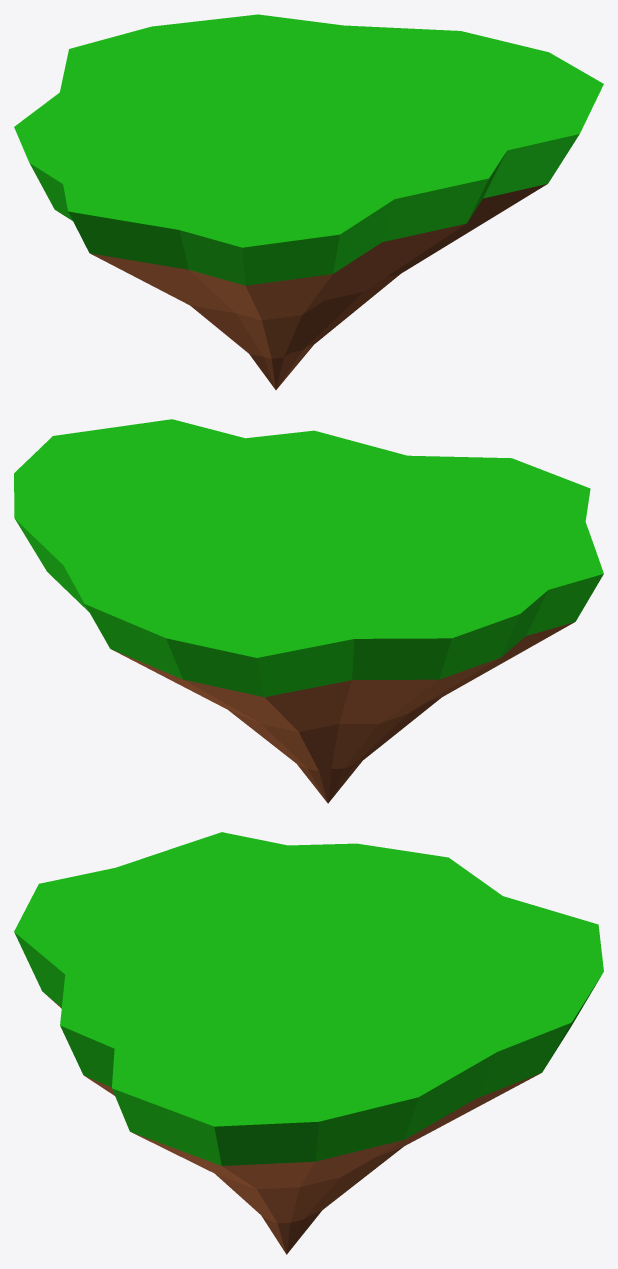
File: Big_City_Island_NoCollision.fbx
The picture shows the model from 3 angles, top to bottom: view 1: azimuth 30°, elevation 25°; view 2: azimuth 150°, elevation 25°; view 3: azimuth 270°, elevation 25°; orthographic projection. The views are drawn at different scales.
Parts seen in each view (by area): view 1: Island; view 2: Island; view 3: Island.
Part boxes in pixels (x1,y1,x2,y2): Island: (14, 14, 603, 389); Island: (14, 419, 603, 803); Island: (14, 832, 603, 1254).
Size of the model in its own units: 1059 by 490 by 897.
